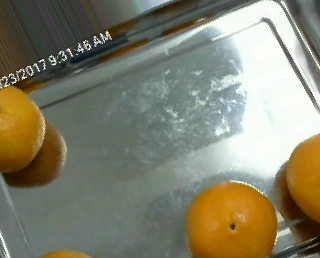Orange: (185, 179, 279, 258)
